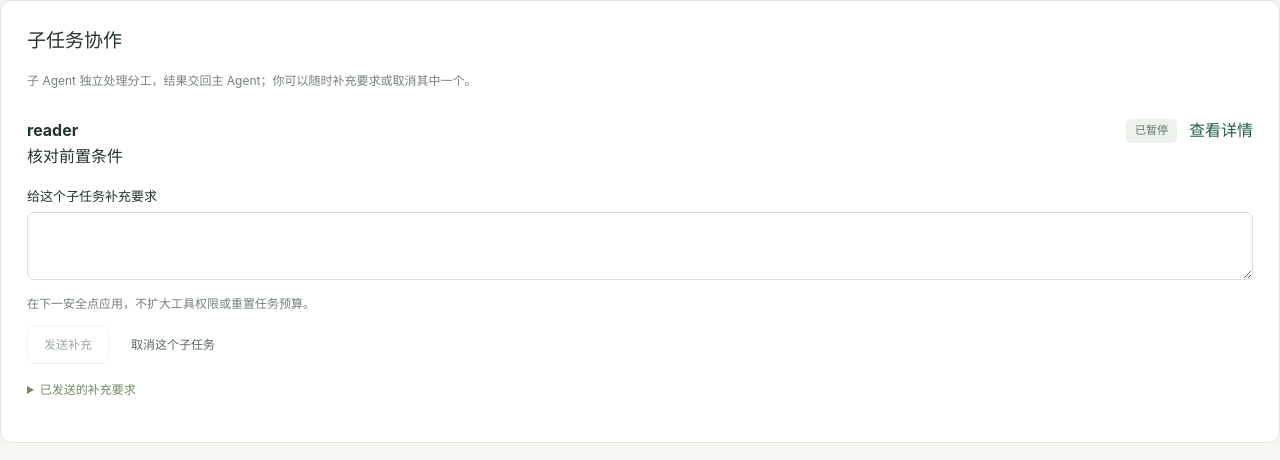
Test: cancels only the selected child and reloads its saved result
Click the button "取消这个子任务". click: (173, 345)
box: [121,329,225,360]
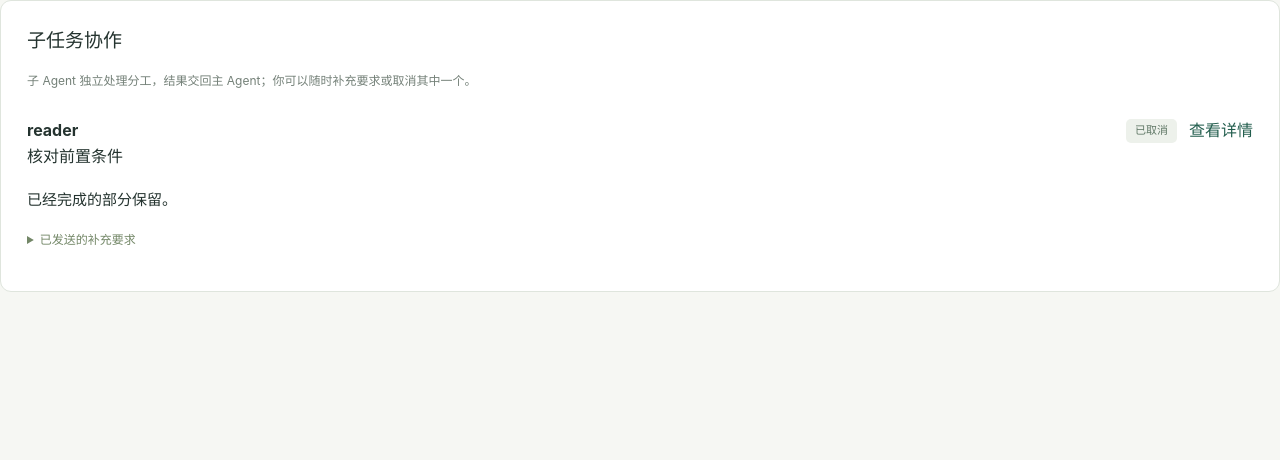
Now the text "已经完成的部分保留。" is shown, box [27,190,177,209]
Now the button "发送补充" is gone
